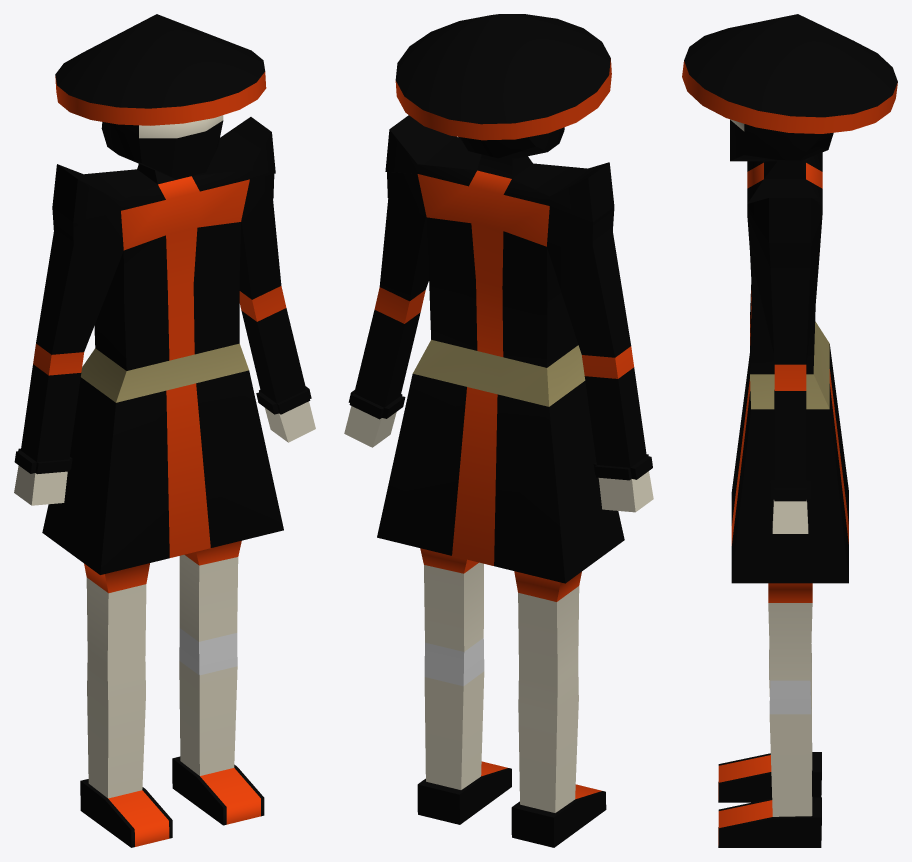
The model's file is Hero.fbx.
The picture shows the model from 3 angles, left to right: view 1: azimuth 30°, elevation 25°; view 2: azimuth 150°, elevation 25°; view 3: azimuth 270°, elevation 25°; orthographic projection. The views are drawn at different scales.
Visible parts, largest first — view 1: pCube1, pCylinder1; view 2: pCube1, pCylinder1; view 3: pCube1, pCylinder1.
Boxes of the visible parts, x1,y1,x2,y2 form: pCube1: (14,115,315,847); pCylinder1: (55,14,266,125); pCube1: (344,115,653,847); pCylinder1: (395,14,611,140); pCube1: (718,119,848,847); pCylinder1: (682,14,897,133).
Size of the model in its own units: 1.58 by 4.18 by 1.02.
